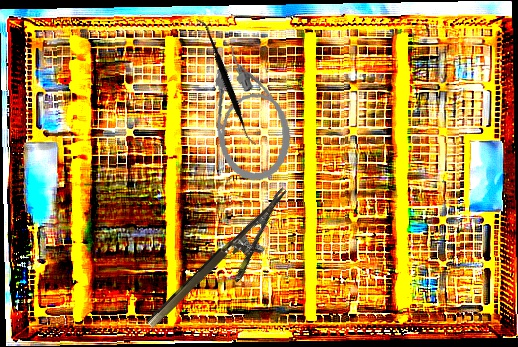Cannula: (206, 40, 296, 185)
Needle Holder: (144, 187, 309, 347)
Spatula Surgical: (156, 17, 296, 147)
